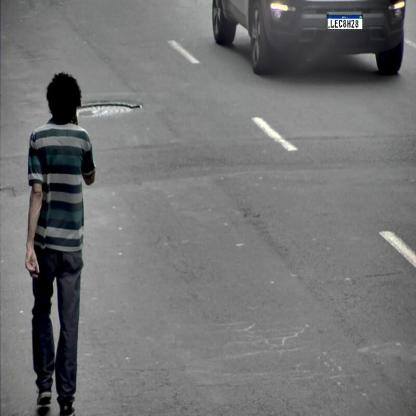PlacaM: (327, 14, 363, 30)
